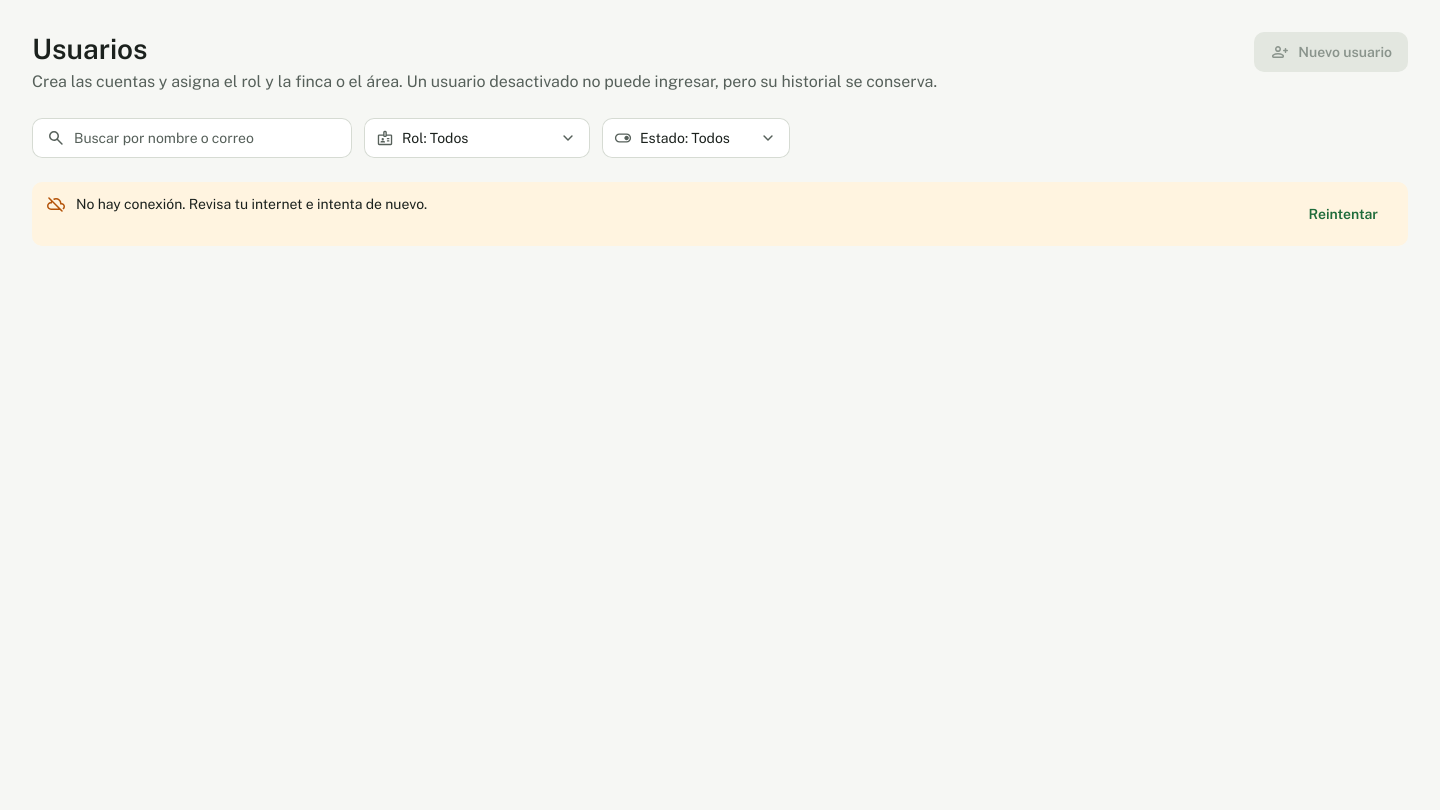
Test: Pantalla 28 · Usuarios (RF-03 / CU-03 2) › RF-03: si la consulta falla, avisa y deja reintentar
The width and height of the screenshot is (1440, 810).
Check: the message shows "No hay conexión", box [76, 196, 427, 212]
Click the button "Reintentar": x=1343, y=214 [1292, 194, 1394, 234]
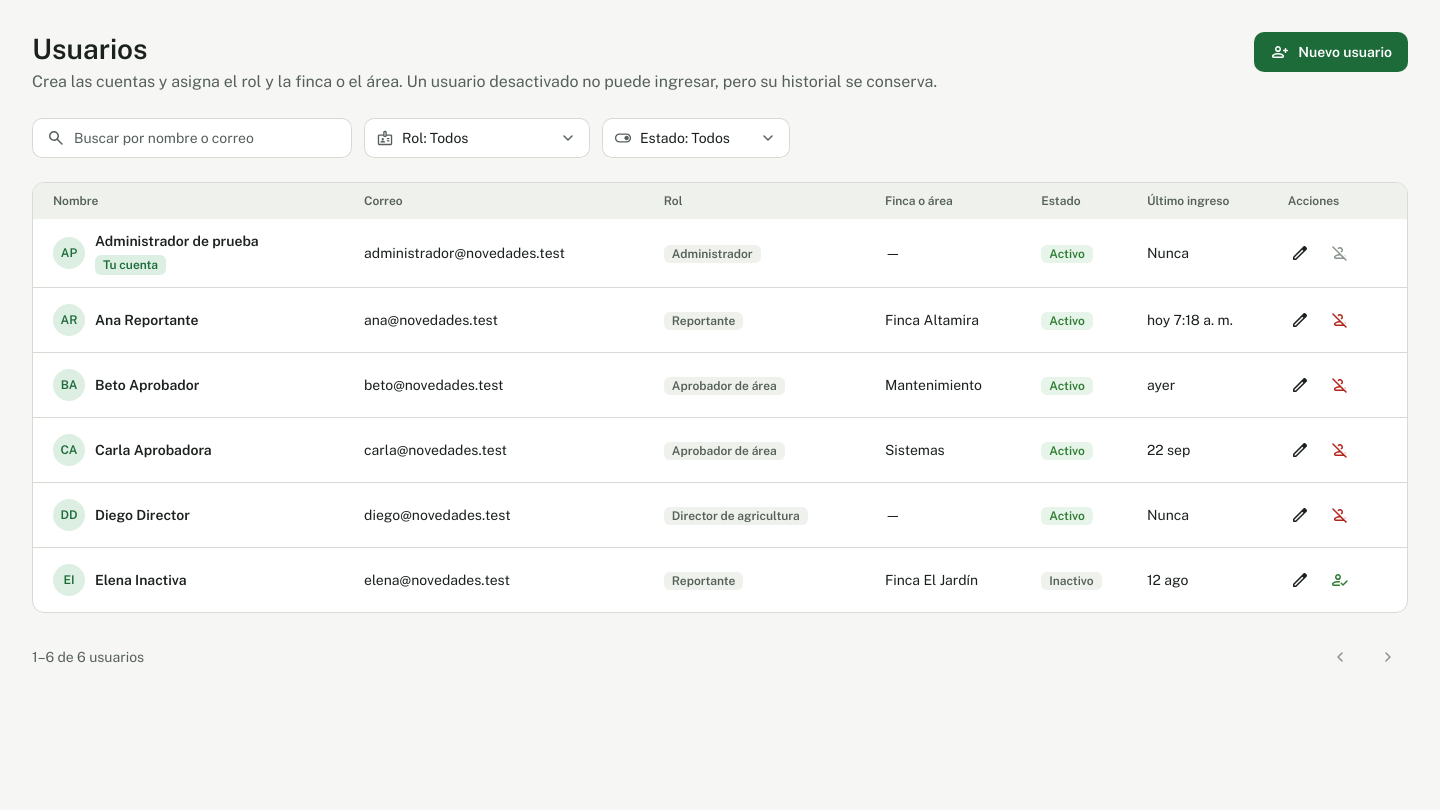
Check: the table is shown, box [33, 183, 1407, 612]
